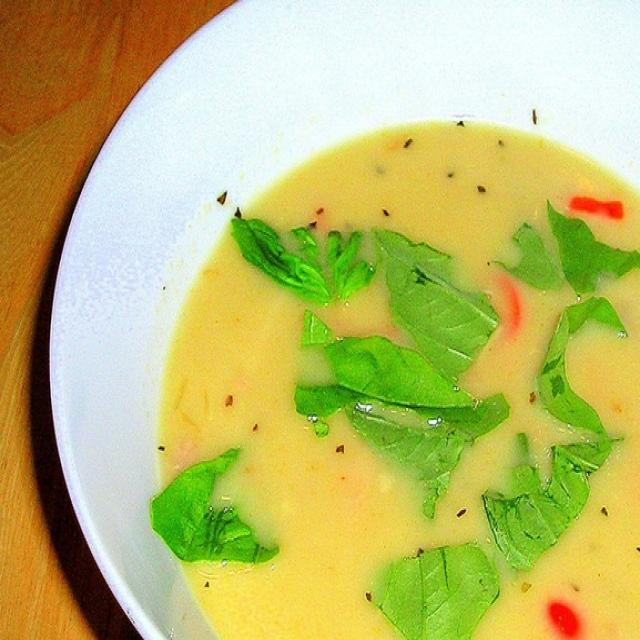汤锅炖物: (68, 17, 633, 624)
